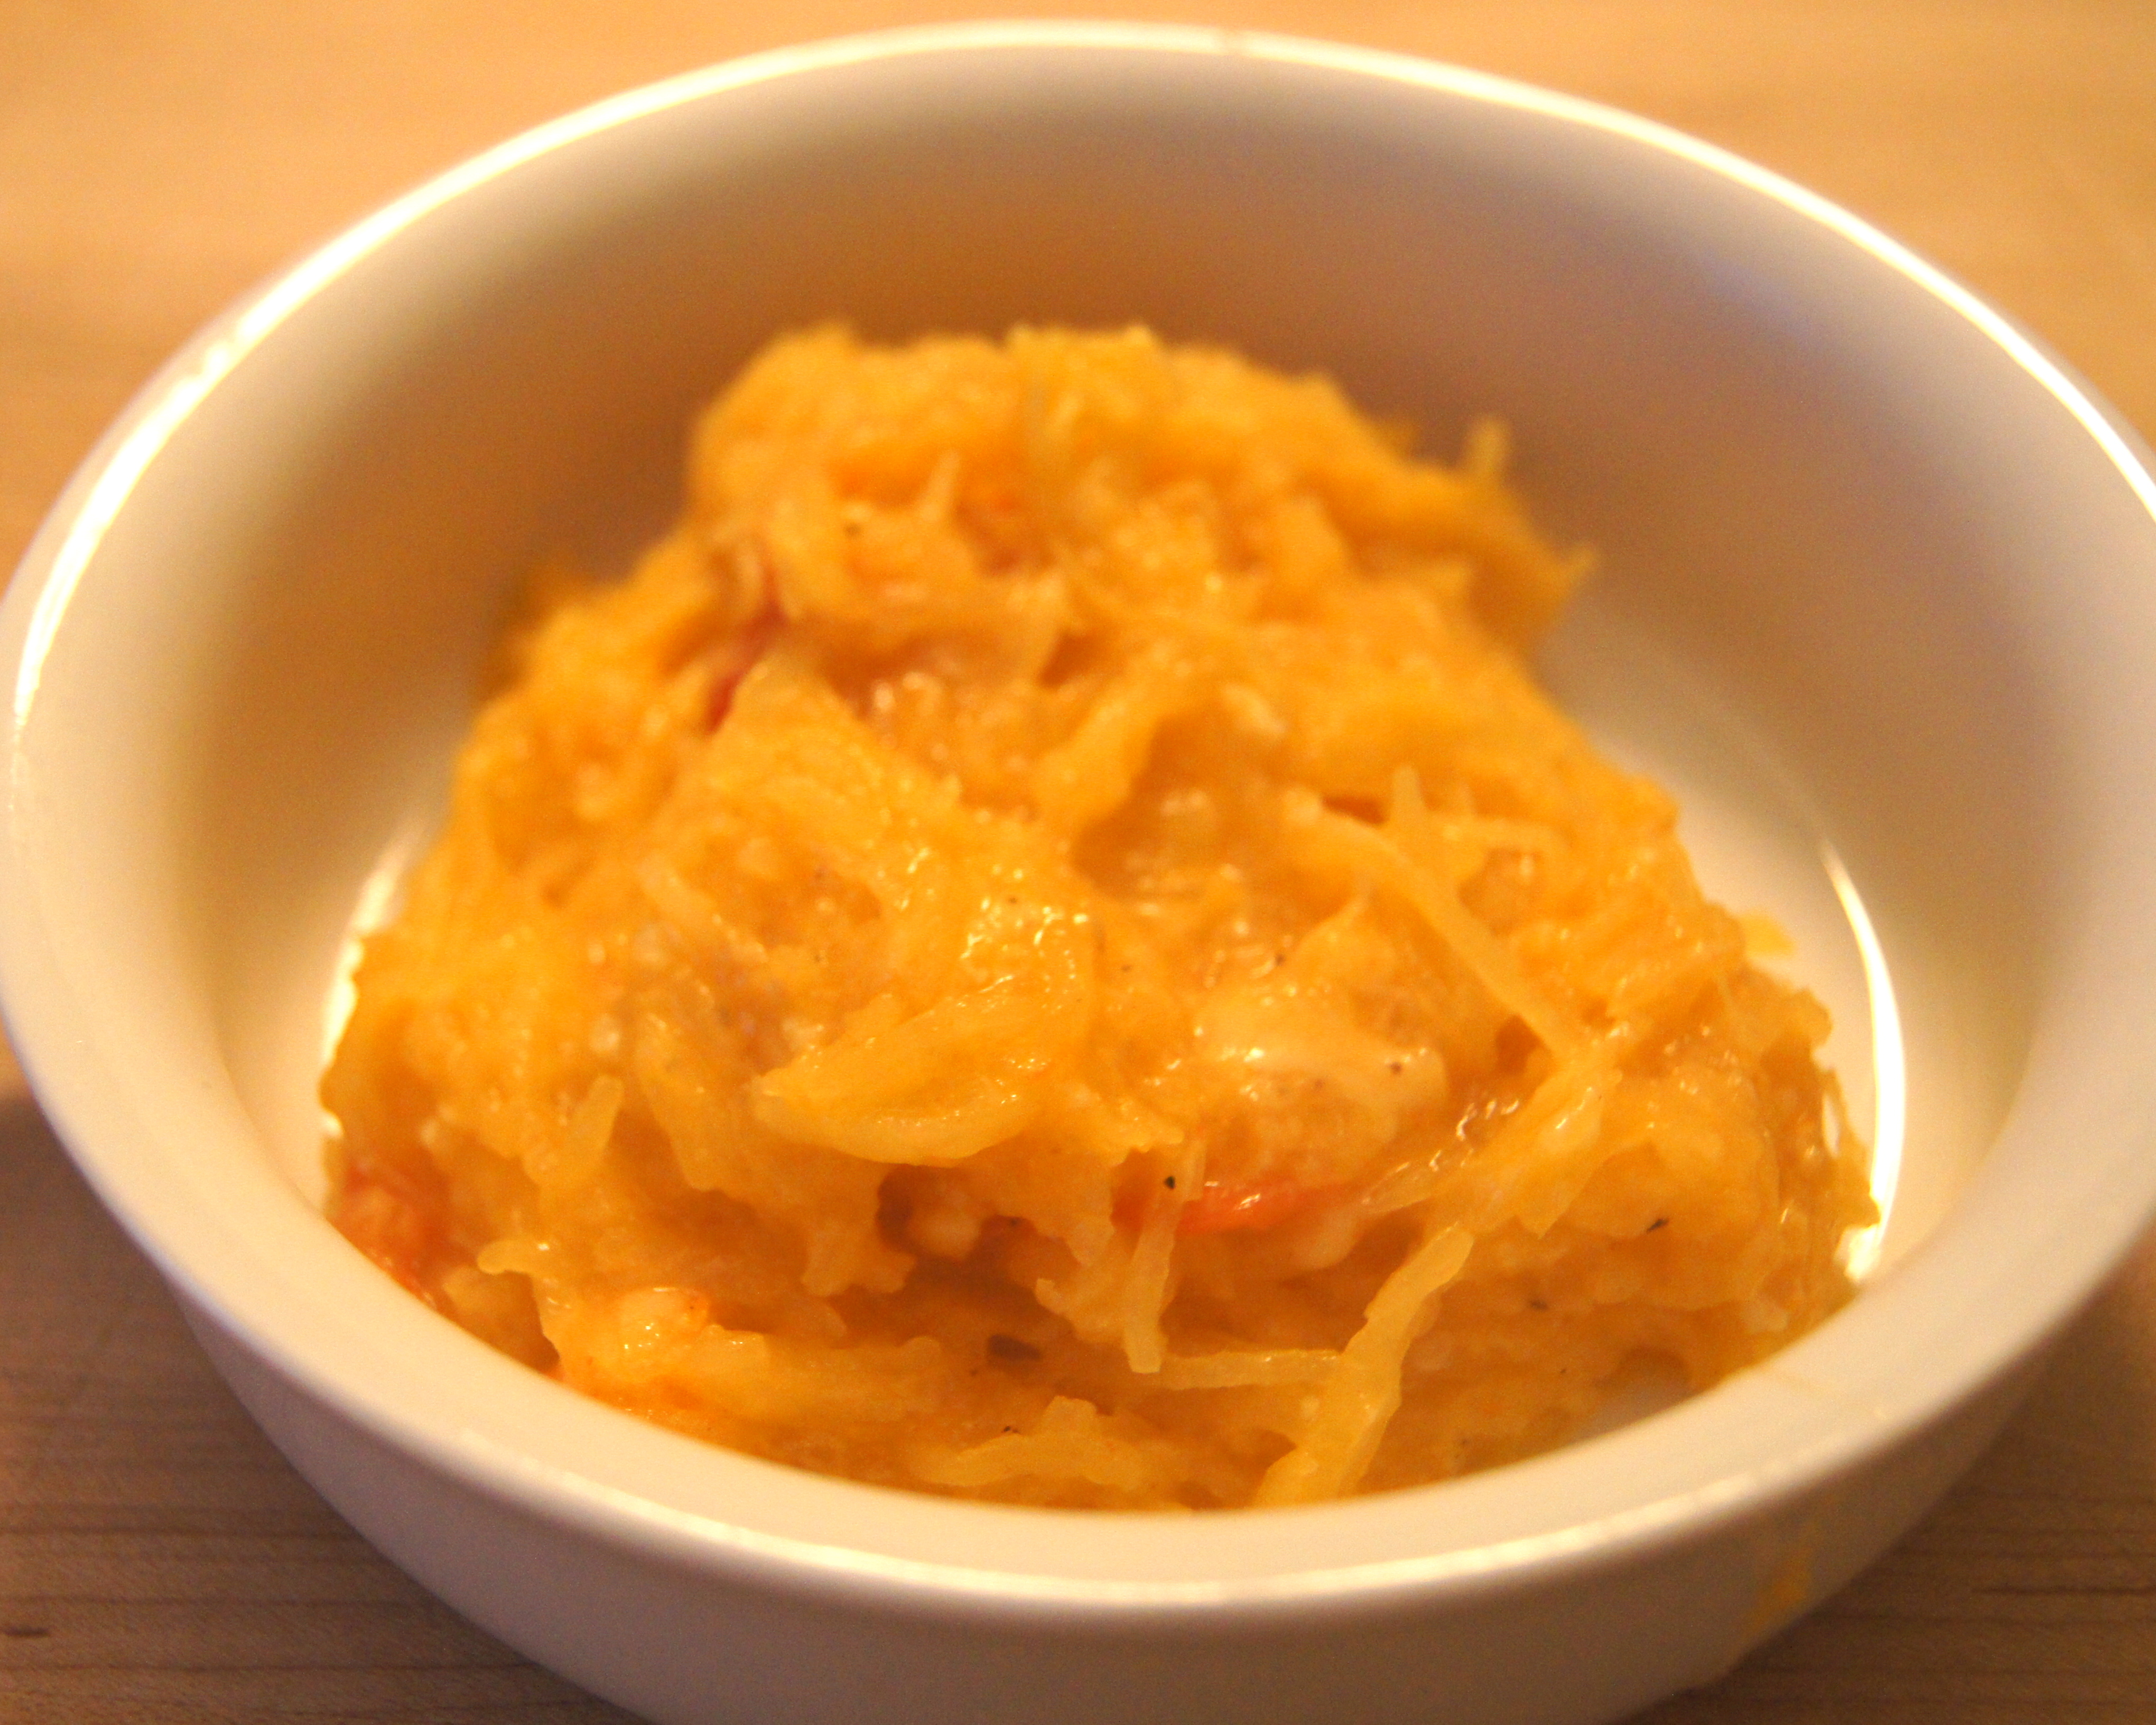plain spaghetti: (584, 679, 1612, 1139)
